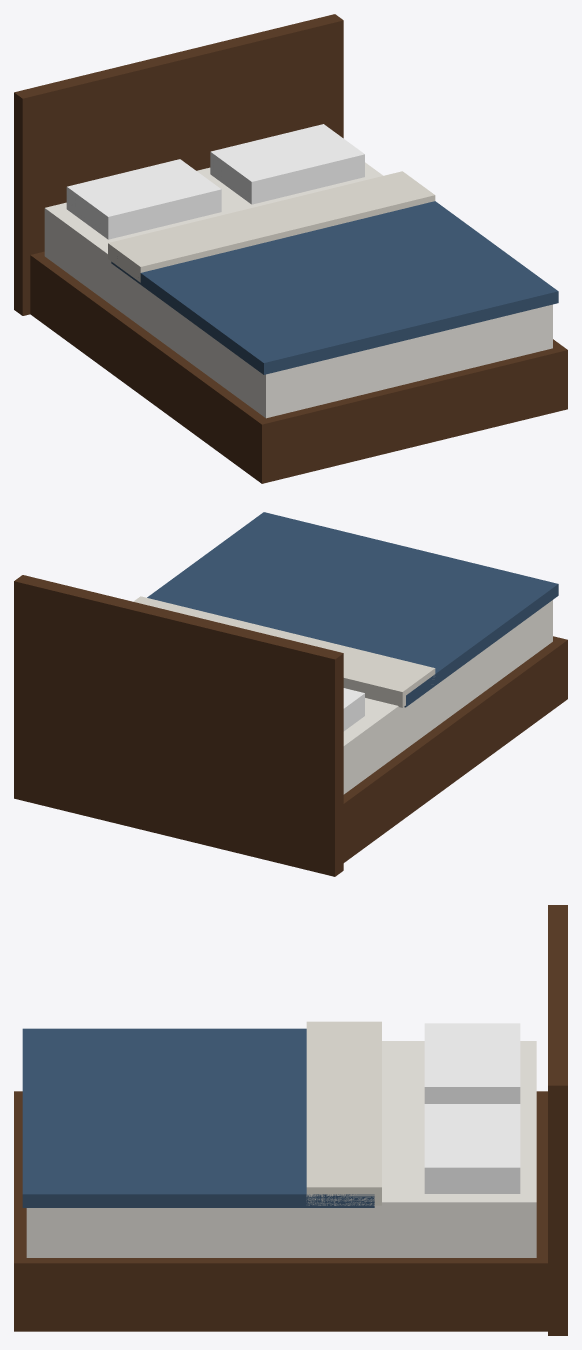
File: bed.glb
The picture shows the model from 3 angles, top to bottom: view 1: azimuth 30°, elevation 25°; view 2: azimuth 150°, elevation 25°; view 3: azimuth 270°, elevation 25°; orthographic projection. The views are drawn at different scales.
Size of the model in its own units: 1.7 by 1.1 by 2.21.
